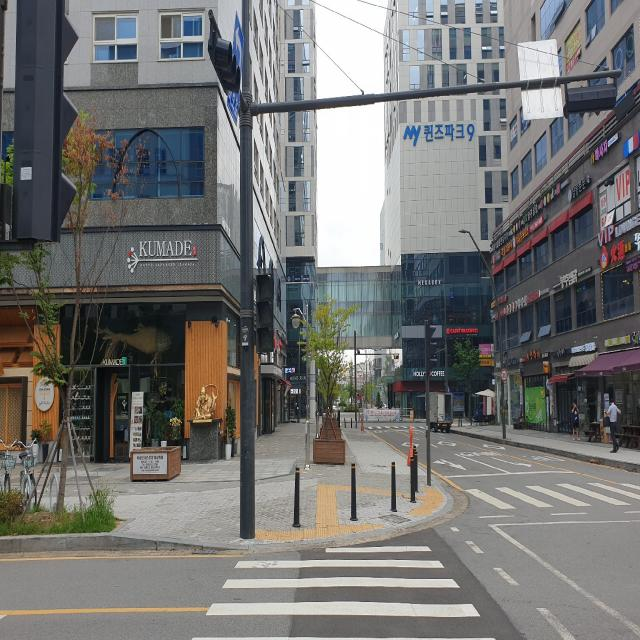횡단보도: (188, 543, 499, 640), (461, 471, 640, 512)
